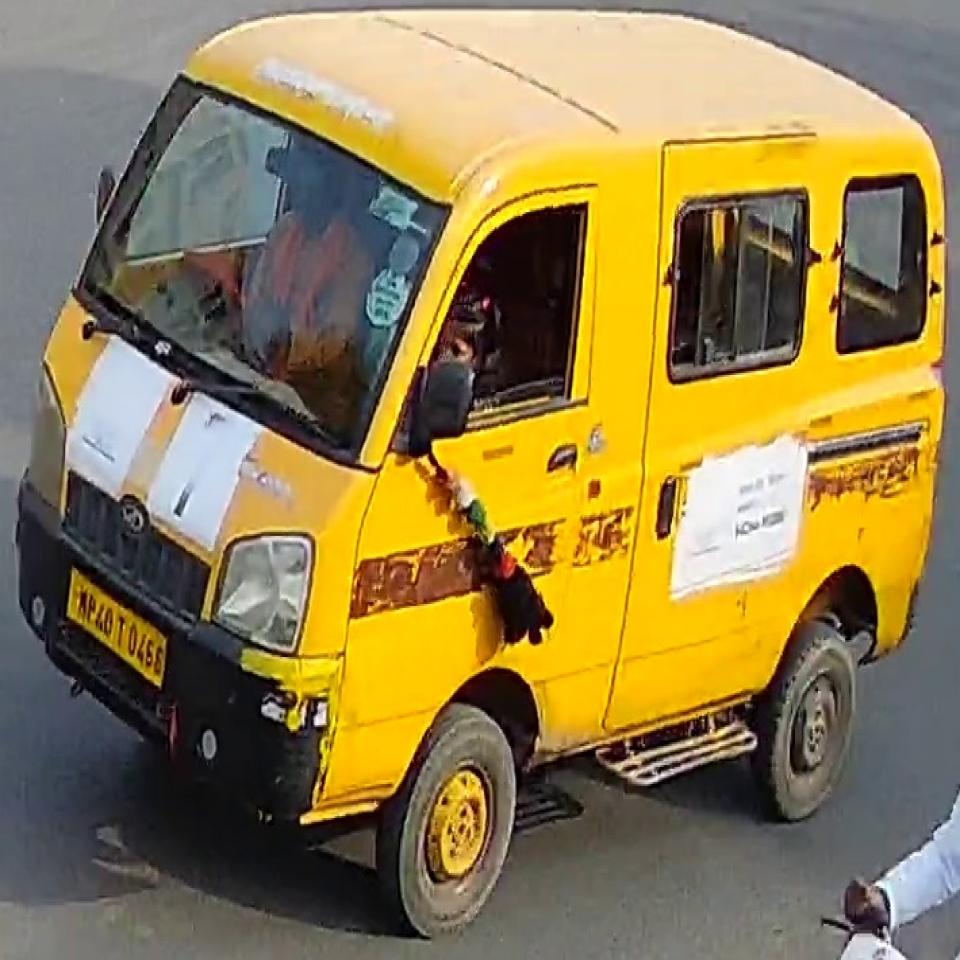head_light: (216, 528, 318, 654), (25, 360, 68, 510)
